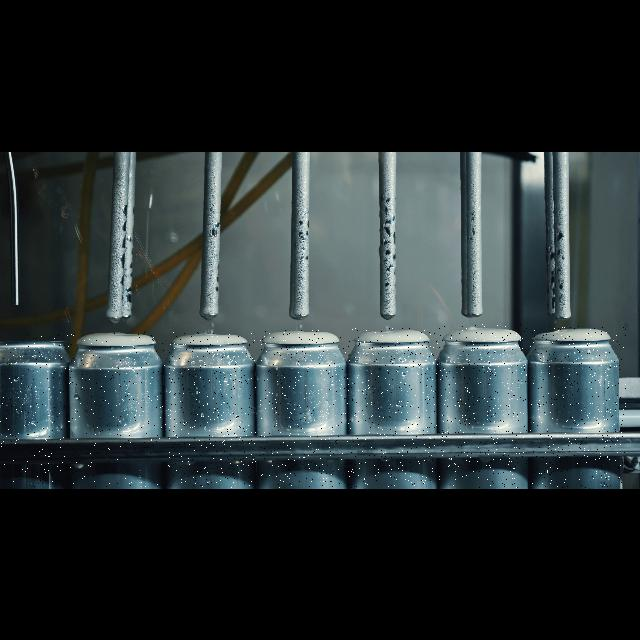empty: (0, 334, 78, 488)
full: (530, 326, 626, 488), (437, 324, 527, 488), (348, 328, 438, 488), (74, 332, 166, 488), (260, 330, 348, 488), (168, 332, 256, 488)
